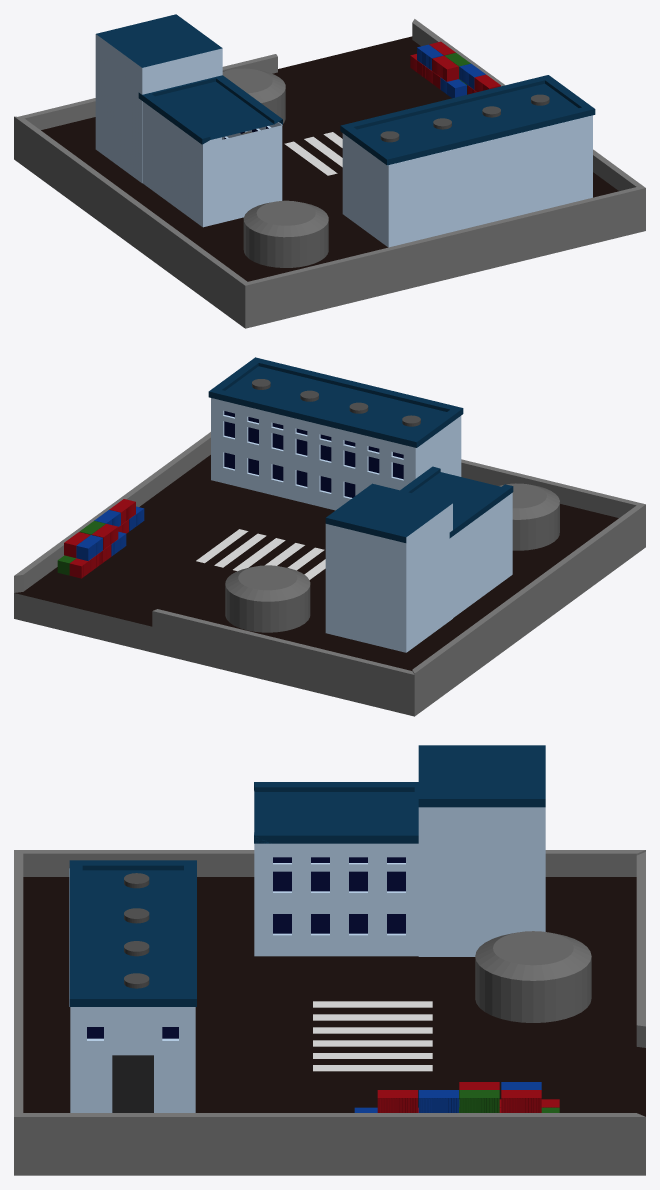
3 views of the same model, one above another, from view 1: azimuth 30°, elevation 25°; view 2: azimuth 150°, elevation 25°; view 3: azimuth 270°, elevation 25° (orthographic). The views are drawn at different scales.
Parts seen in each view (by area): view 1: Cube.002, Building, Building.001, Cube.008, Roof1, Roof1.001, Cylinder.007, Cylinder.001, Cube.011; view 2: Cube.002, Cube.008, Building, Roof1, Cylinder.001, Building.001, Roof1.001, Cylinder.007, Cube.012; view 3: Cube.002, Cube.008, Building.001, Roof1, Building, Roof1.001, Cylinder.001, Cube.016, Cube.017, Cube.019, Cube.020.
Boxes of the visible parts, x1,y1,x2,y2 form: Cube.002: (14,19,645,328); Building: (342,115,592,247); Building.001: (142,101,282,227); Cube.008: (95,14,222,183); Roof1: (340,75,595,165); Roof1.001: (138,75,282,144); Cylinder.007: (243,200,328,267); Cylinder.001: (222,68,285,123); Cube.011: (432,56,458,81); Cube.002: (14,432,645,716); Cube.008: (325,483,452,652); Building: (211,398,461,510); Roof1: (208,357,463,447); Cylinder.001: (225,565,310,632); Building.001: (453,493,512,617); Roof1.001: (400,466,513,538); Cylinder.007: (498,483,559,550); Cube.012: (76,535,102,560); Cube.002: (14,850,645,1175); Cube.008: (418,745,545,956); Building.001: (254,790,418,956); Roof1: (69,860,196,1006); Building: (69,868,195,1112); Roof1.001: (254,782,418,843); Cylinder.001: (475,931,591,1022); Cube.016: (459,1090,499,1112); Cube.017: (501,1090,541,1112); Cube.019: (377,1090,417,1112); Cube.020: (418,1090,458,1112).
Size of the model in its own units: 13.09 by 4.41 by 13.09.
